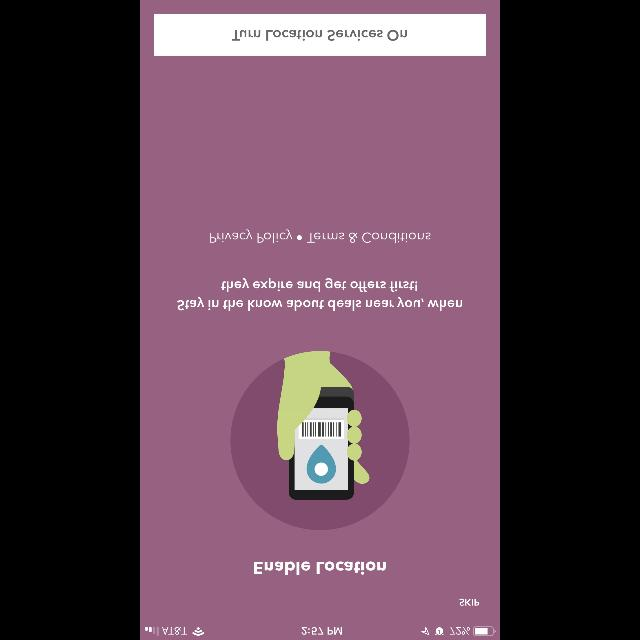image: (230, 350, 410, 530)
text: (178, 278, 462, 310), (210, 229, 430, 243), (254, 561, 386, 575), (459, 598, 479, 606)
textbutton: (154, 14, 486, 56)
uppertaskbar: (140, 626, 500, 640)
